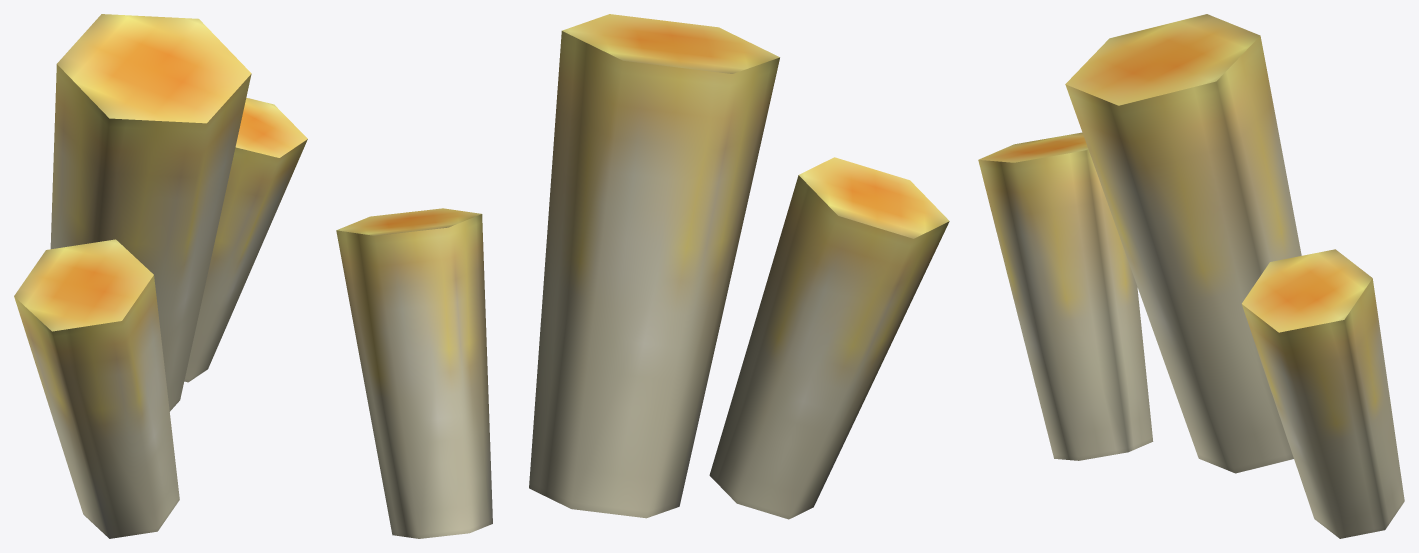
Rendered from Area03_6.fbx.
3 views of the same model, side by side, from view 1: azimuth 30°, elevation 25°; view 2: azimuth 150°, elevation 25°; view 3: azimuth 270°, elevation 25° (orthographic). The views are drawn at different scales.
Visible parts, largest first — view 1: Area03_6; view 2: Area03_6; view 3: Area03_6.
Boxes of the visible parts, <box> form: Area03_6: <box>14,14,307,538</box>; Area03_6: <box>336,14,949,538</box>; Area03_6: <box>978,14,1404,538</box>.
Bounding box in the file's own units: 44.38 × 48.18 × 41.12.
